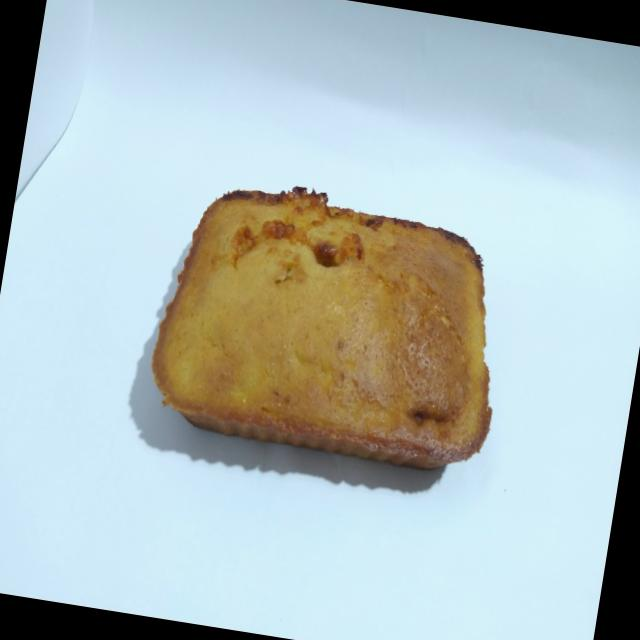Sopa: (135, 168, 528, 491)
